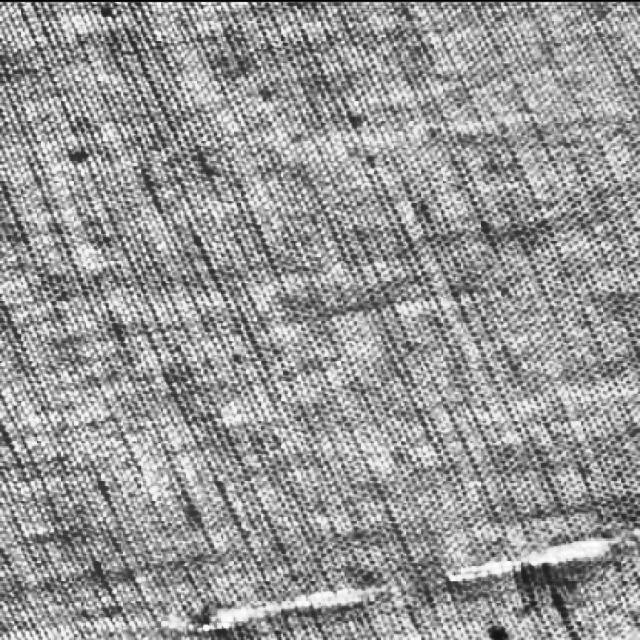thread_error: (183, 514, 640, 640)
